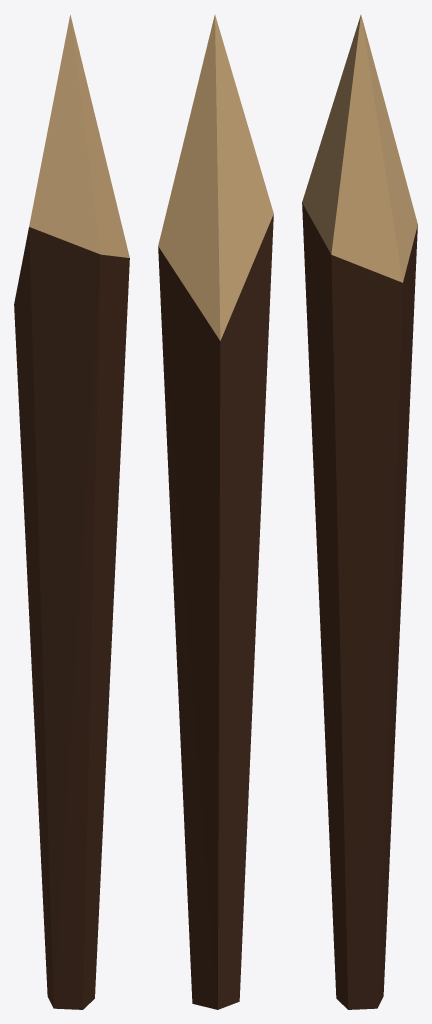
The model's file is WoodenSpike_1.fbx.
3 renders of one model, left to right at view 1: azimuth 30°, elevation 25°; view 2: azimuth 150°, elevation 25°; view 3: azimuth 330°, elevation 25°, orthographic.
Parts seen in each view (by area): view 1: WoodenSpike_1; view 2: WoodenSpike_1; view 3: WoodenSpike_1.
Part boxes in pixels (x1,y1,x2,y2): WoodenSpike_1: (14, 15, 129, 1009); WoodenSpike_1: (158, 15, 273, 1009); WoodenSpike_1: (302, 15, 417, 1009).
Bounding box in the file's own units: 8.68 × 81.15 × 8.26.
